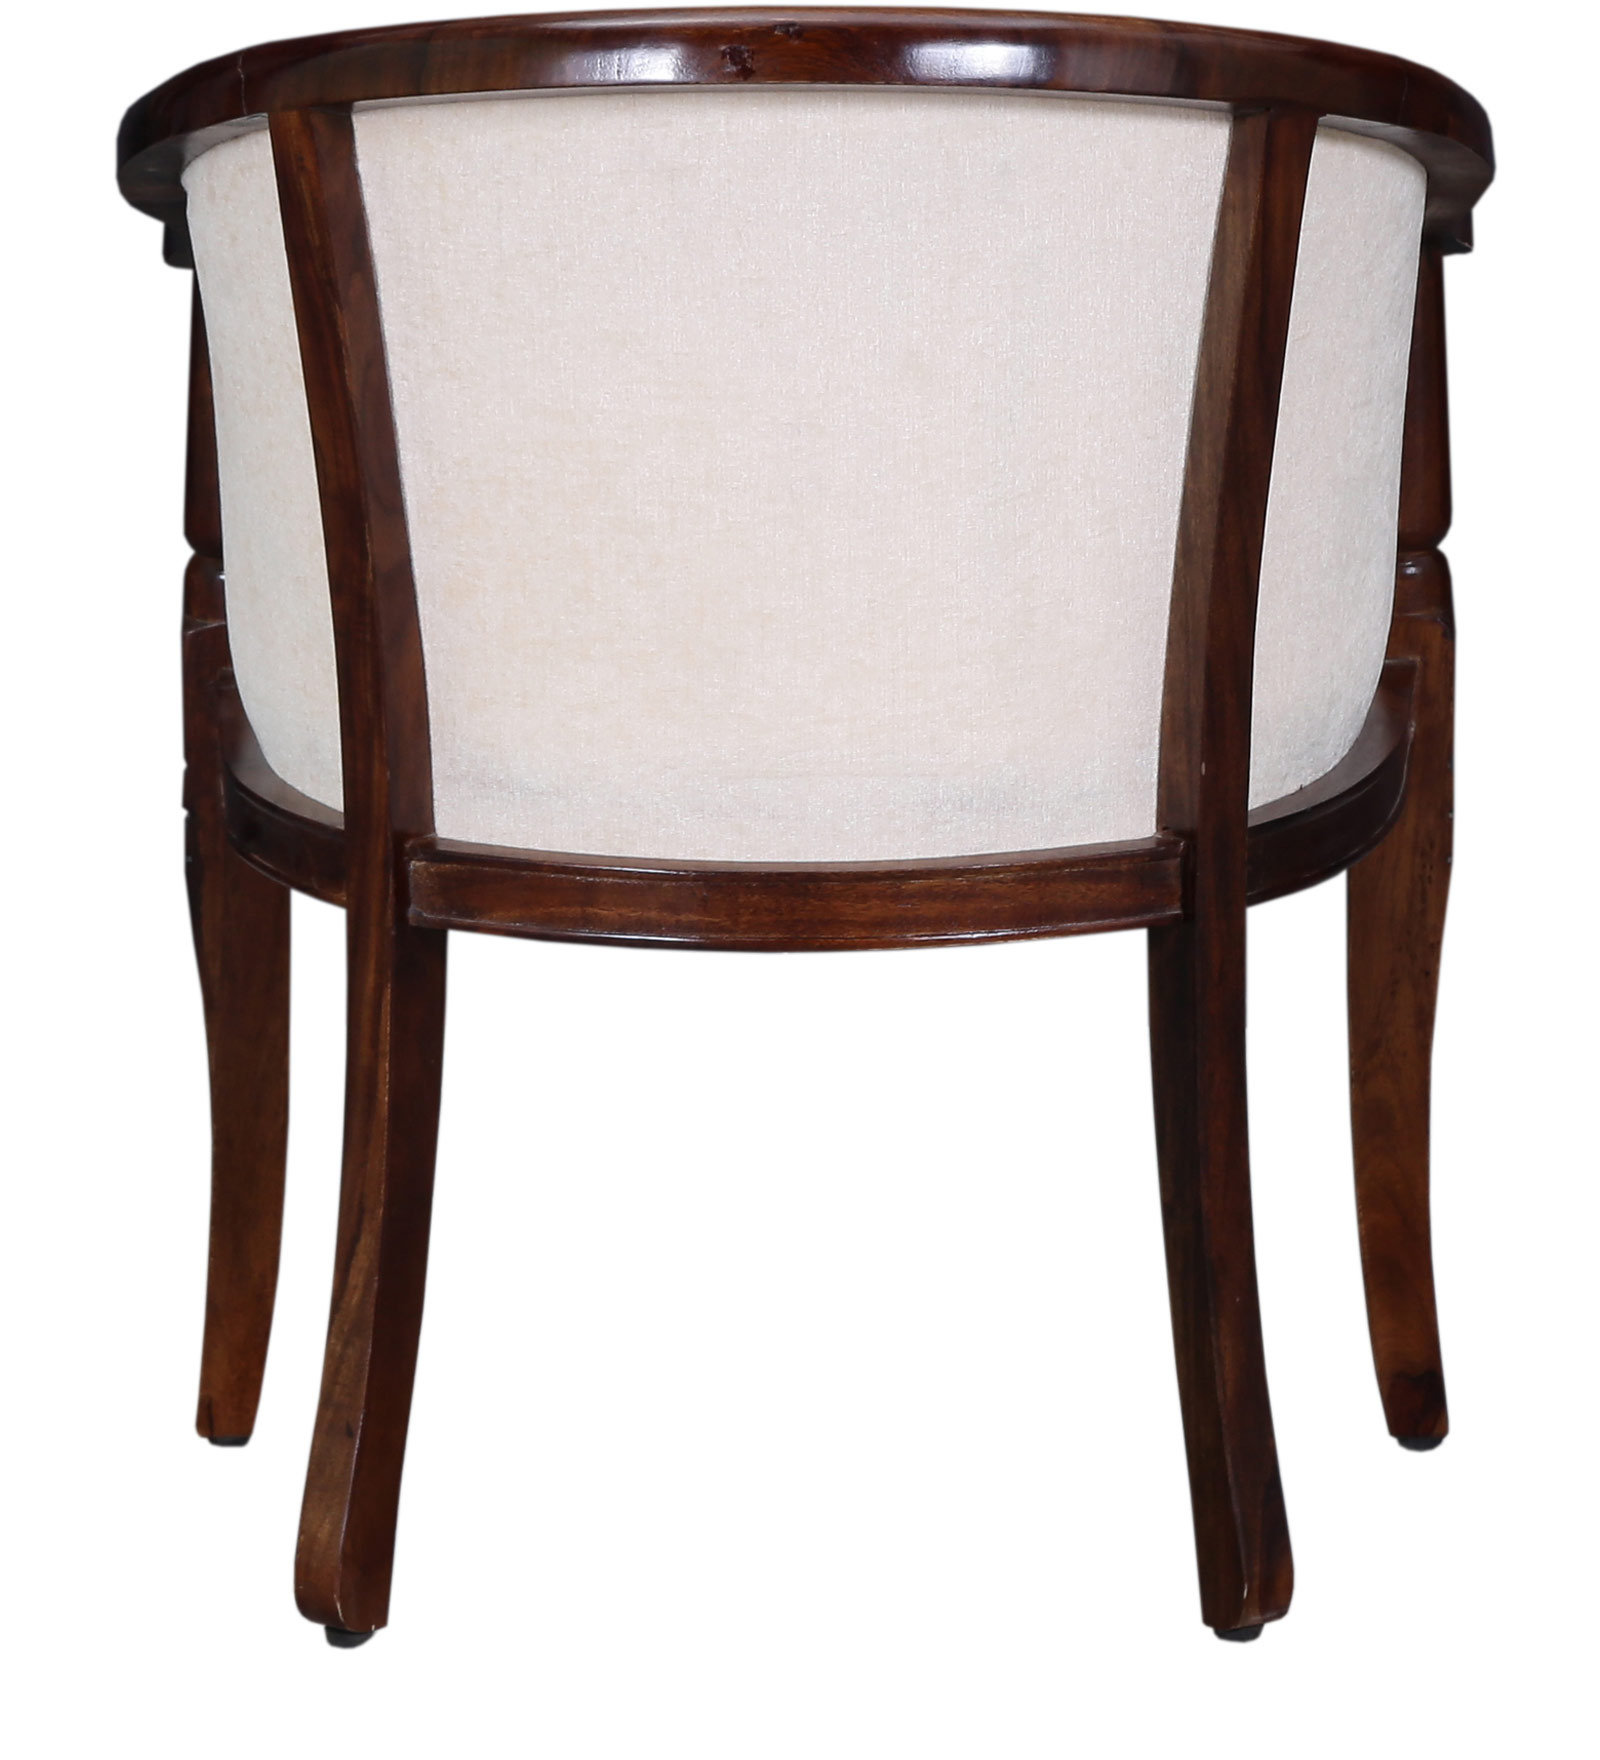Stalley Arm Chair in Cream Color with Honey Oak Finish by Amberville: (54, 12, 1545, 1665)
